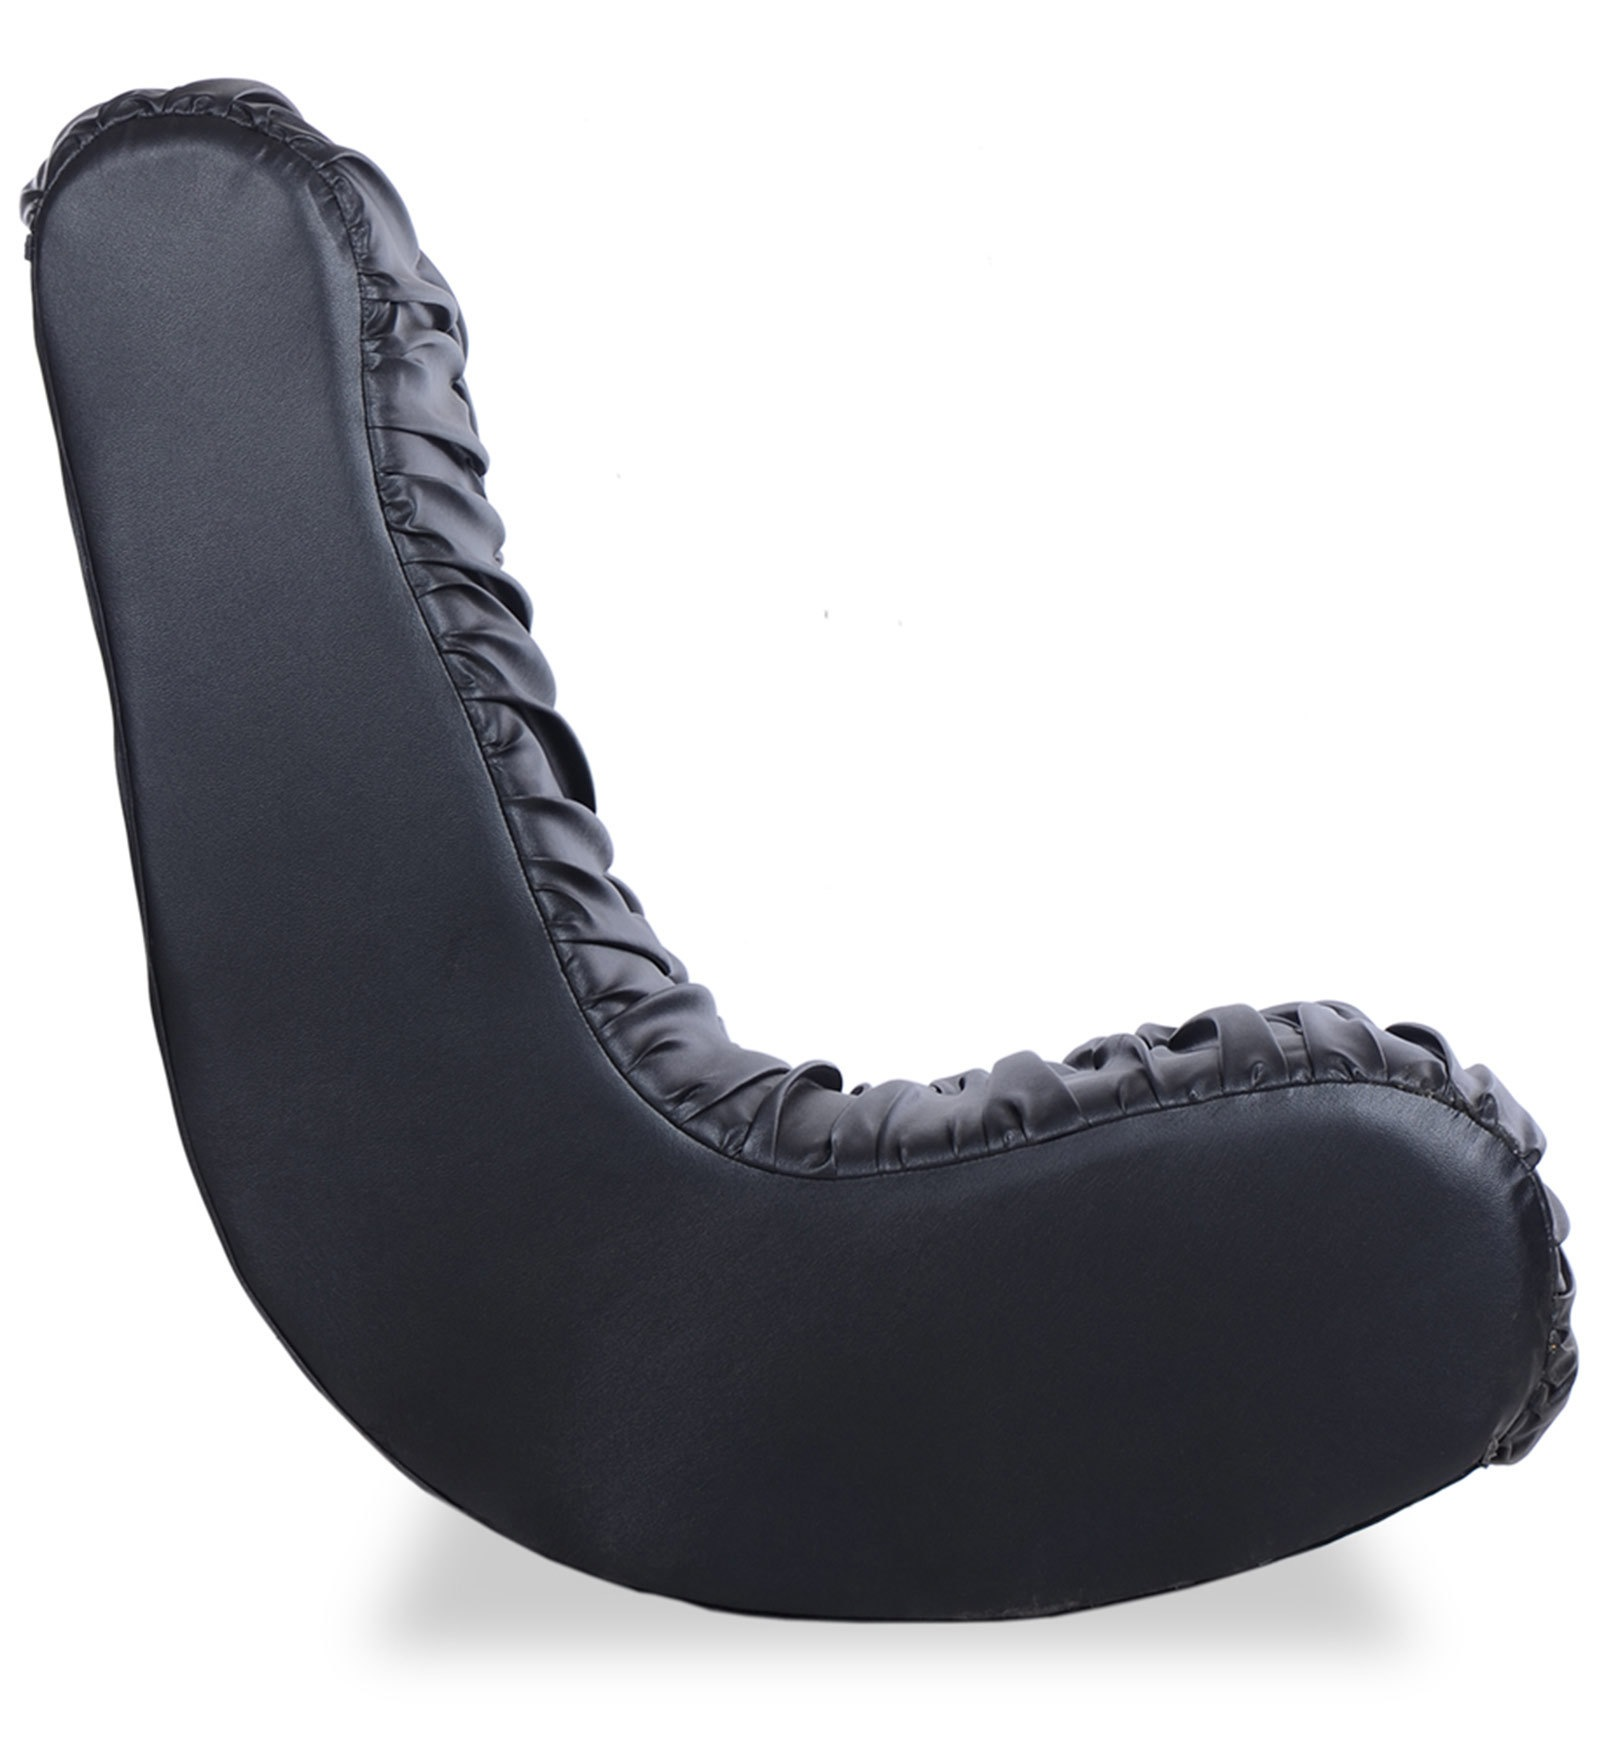Low Seat Rocking Chair in Black Leatherette by Durian: (11, 84, 1589, 1634)
